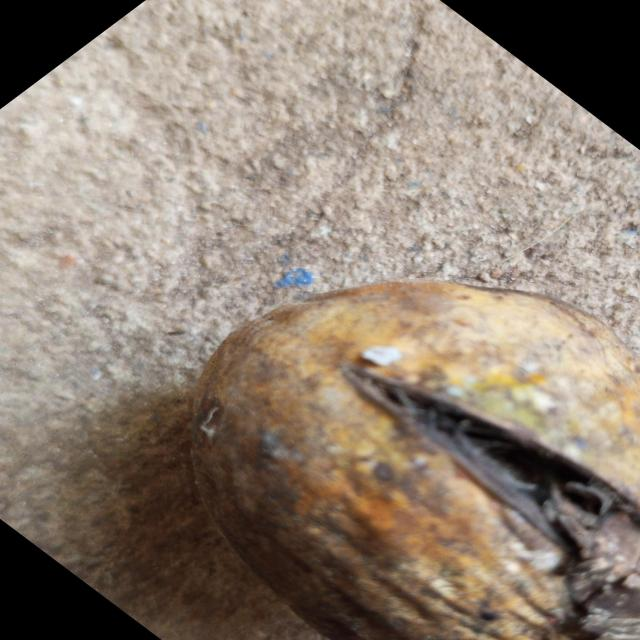damaged: (191, 282, 640, 640)
